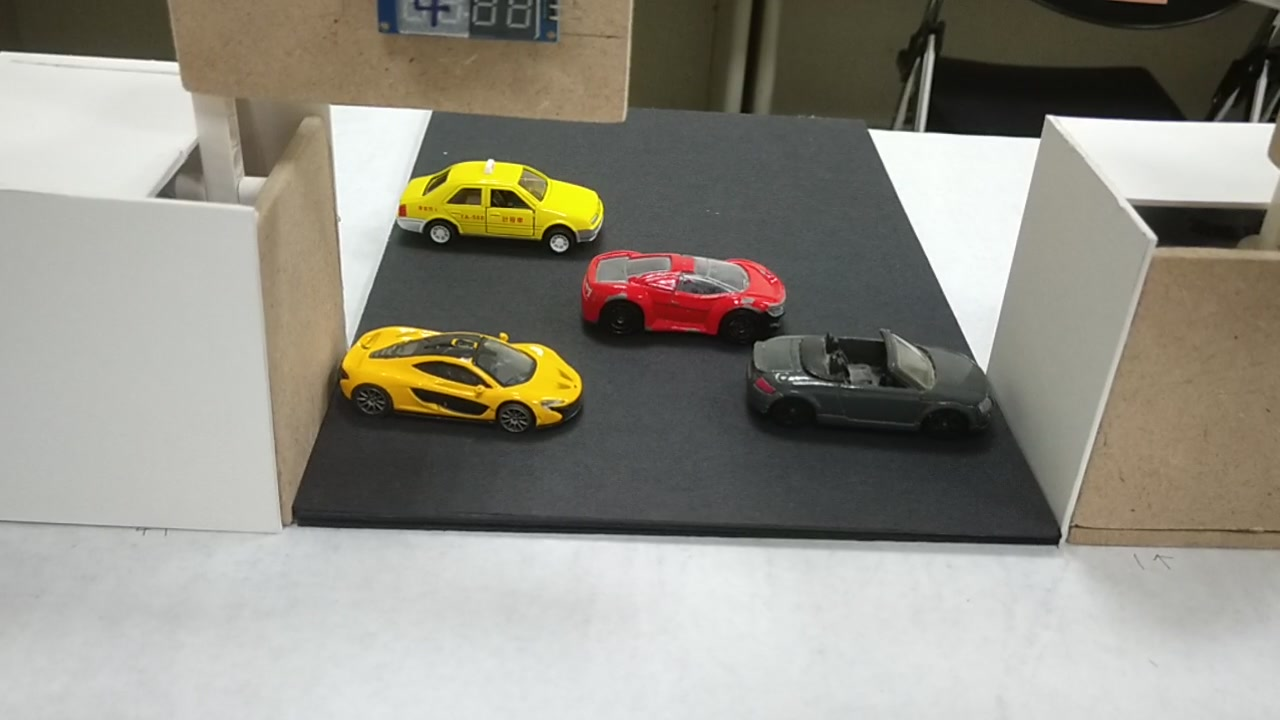car: (334, 333, 585, 434), (754, 335, 992, 441), (572, 249, 788, 335), (396, 164, 605, 242)
